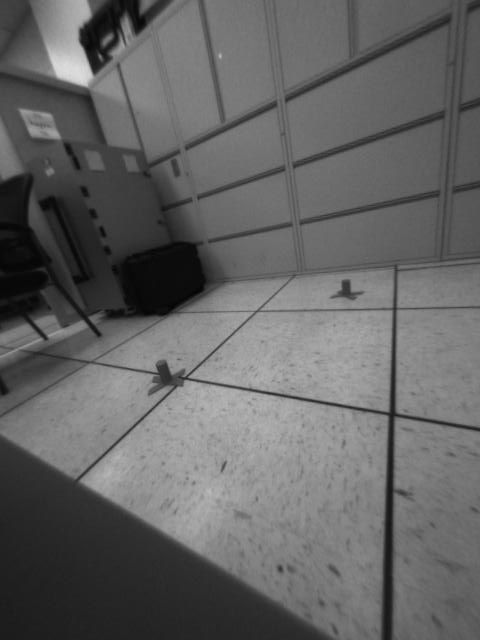X: (143, 351, 185, 395), (327, 275, 365, 301)
